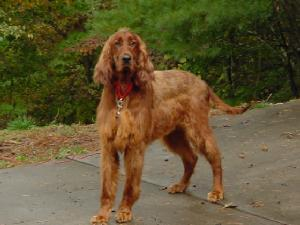Irish_setter: (95, 27, 248, 217)
